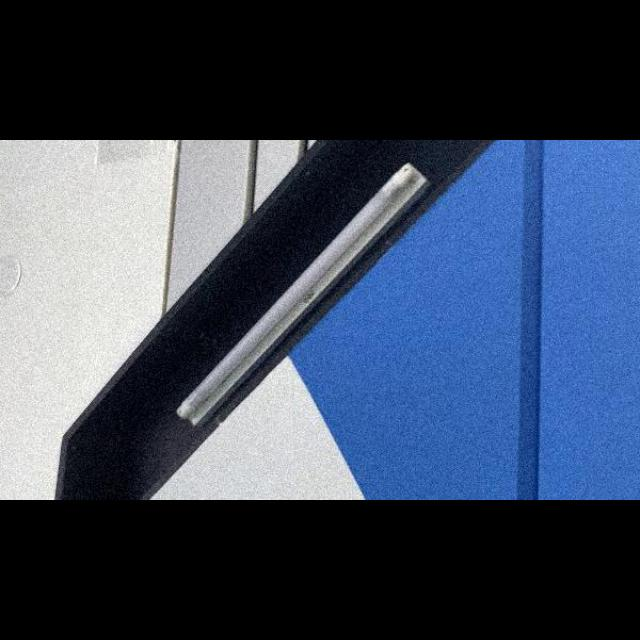Straight-Tube-Fluorescent-Lamp: (168, 155, 436, 441)
